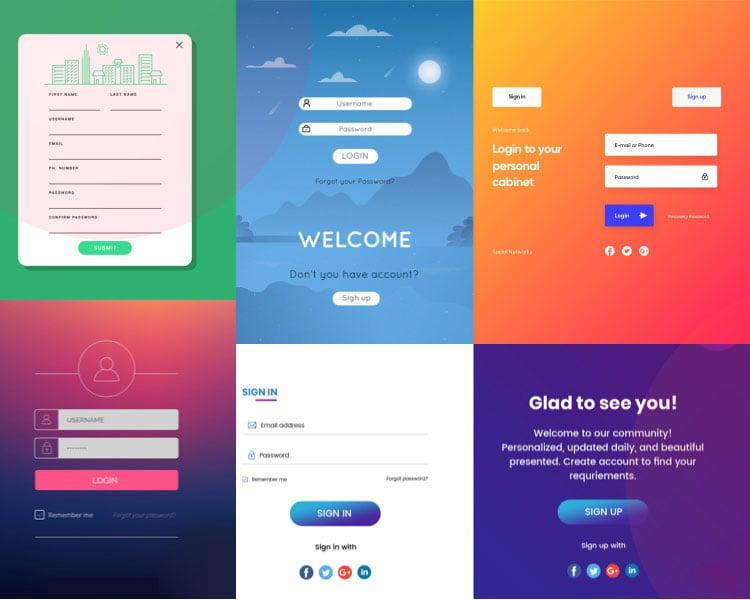button: (36, 470, 179, 490), (291, 501, 383, 528), (558, 500, 648, 526), (493, 88, 543, 109), (605, 207, 655, 226), (674, 88, 721, 108), (333, 149, 380, 166), (80, 242, 133, 257), (334, 292, 381, 307)
checkbox: (35, 511, 47, 522), (242, 476, 249, 485)
icon: (93, 357, 125, 388), (359, 564, 376, 584), (625, 562, 642, 581), (298, 565, 316, 582), (339, 565, 356, 582), (565, 565, 583, 581), (319, 565, 335, 582), (605, 564, 621, 580), (39, 412, 55, 428), (587, 564, 602, 581), (604, 246, 619, 259), (42, 441, 54, 457), (638, 245, 652, 258), (621, 245, 634, 258), (247, 421, 260, 432), (246, 450, 257, 462), (303, 98, 313, 110), (702, 173, 711, 183)
input: (35, 410, 180, 431), (35, 439, 180, 459), (605, 135, 718, 157), (605, 166, 718, 188), (300, 98, 413, 112), (299, 124, 413, 137)
label: (48, 512, 96, 522), (47, 215, 99, 223), (252, 475, 290, 485), (49, 91, 82, 99), (109, 92, 139, 100), (48, 190, 78, 198), (48, 166, 82, 173), (49, 118, 77, 124), (49, 139, 65, 149)
